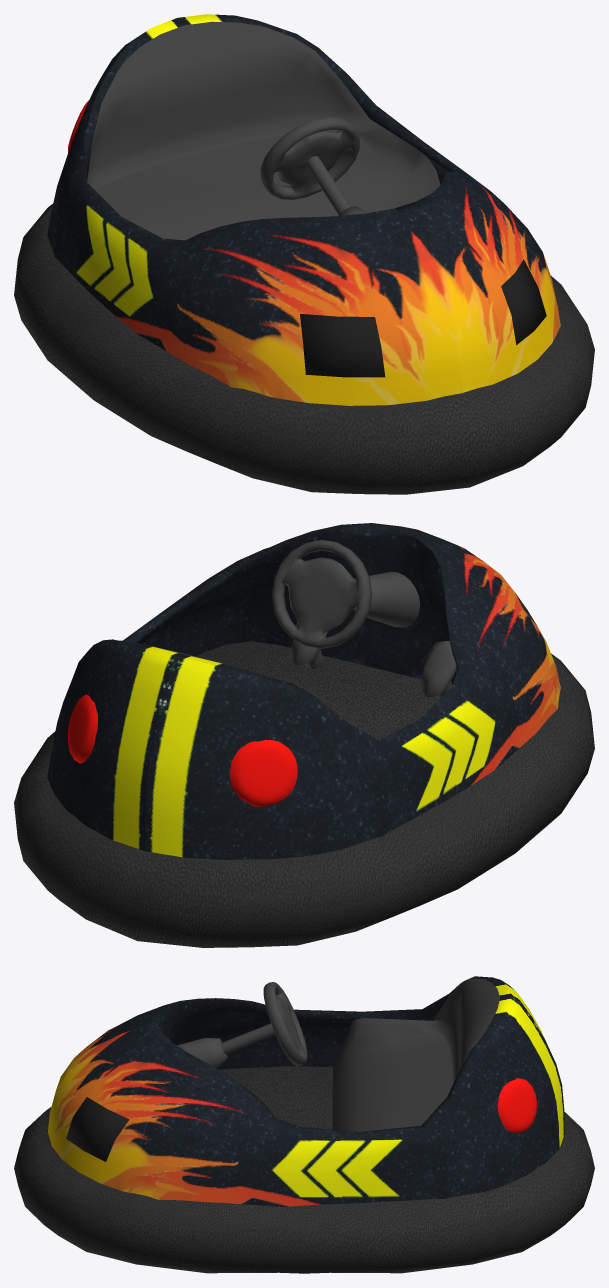
Rendered from bumpercar-01.fbx.
The picture shows the model from 3 angles, top to bottom: view 1: azimuth 30°, elevation 25°; view 2: azimuth 150°, elevation 25°; view 3: azimuth 270°, elevation 25°; orthographic projection. The views are drawn at different scales.
Visible parts, largest first — view 1: body, steering wheel; view 2: body, steering wheel; view 3: body, steering wheel.
Boxes of the visible parts, x1,y1,x2,y2 form: body: [14, 14, 594, 494]; steering wheel: [260, 116, 359, 214]; body: [14, 523, 594, 947]; steering wheel: [271, 539, 371, 648]; body: [14, 976, 594, 1273]; steering wheel: [221, 982, 307, 1065].
Bounding box in the file's own units: 138 × 80.83 × 195.
